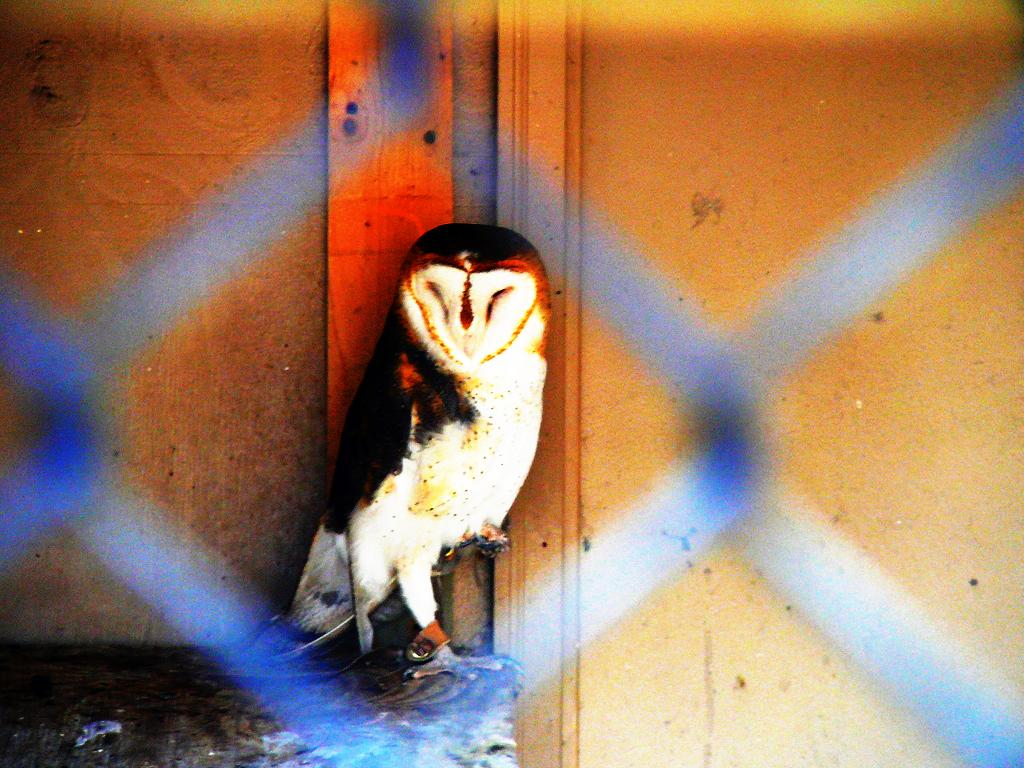Owl: (278, 212, 553, 687)
